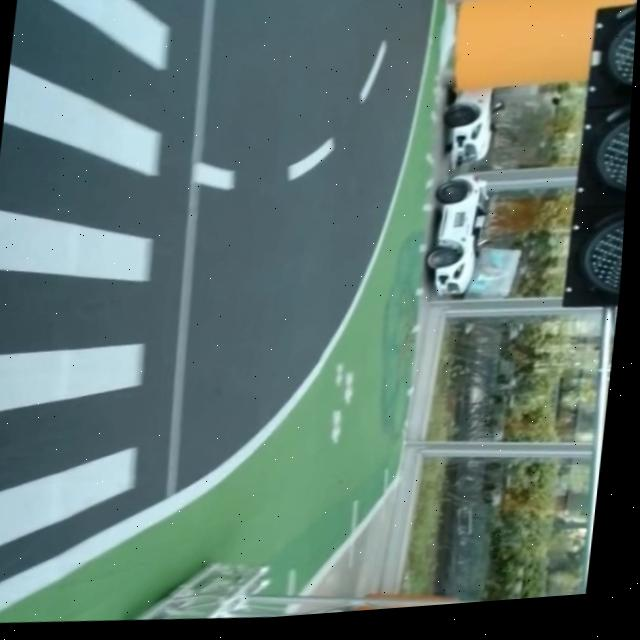traffic-light: (557, 0, 639, 319)
